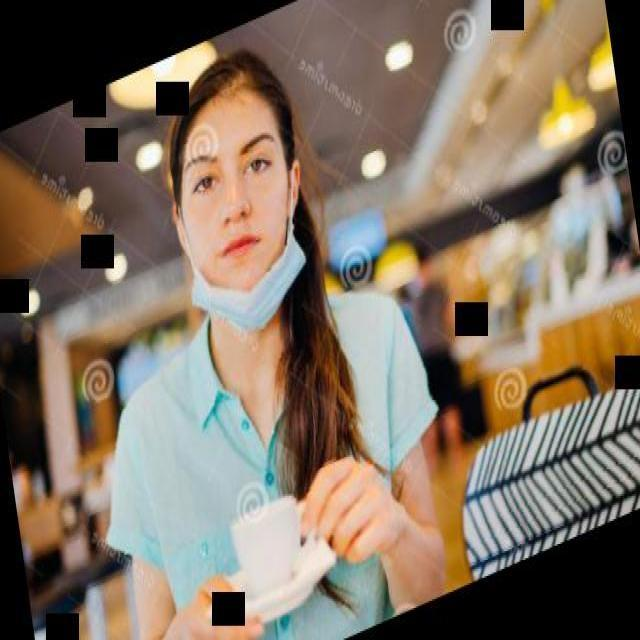hairnet: (188, 194, 310, 333)
